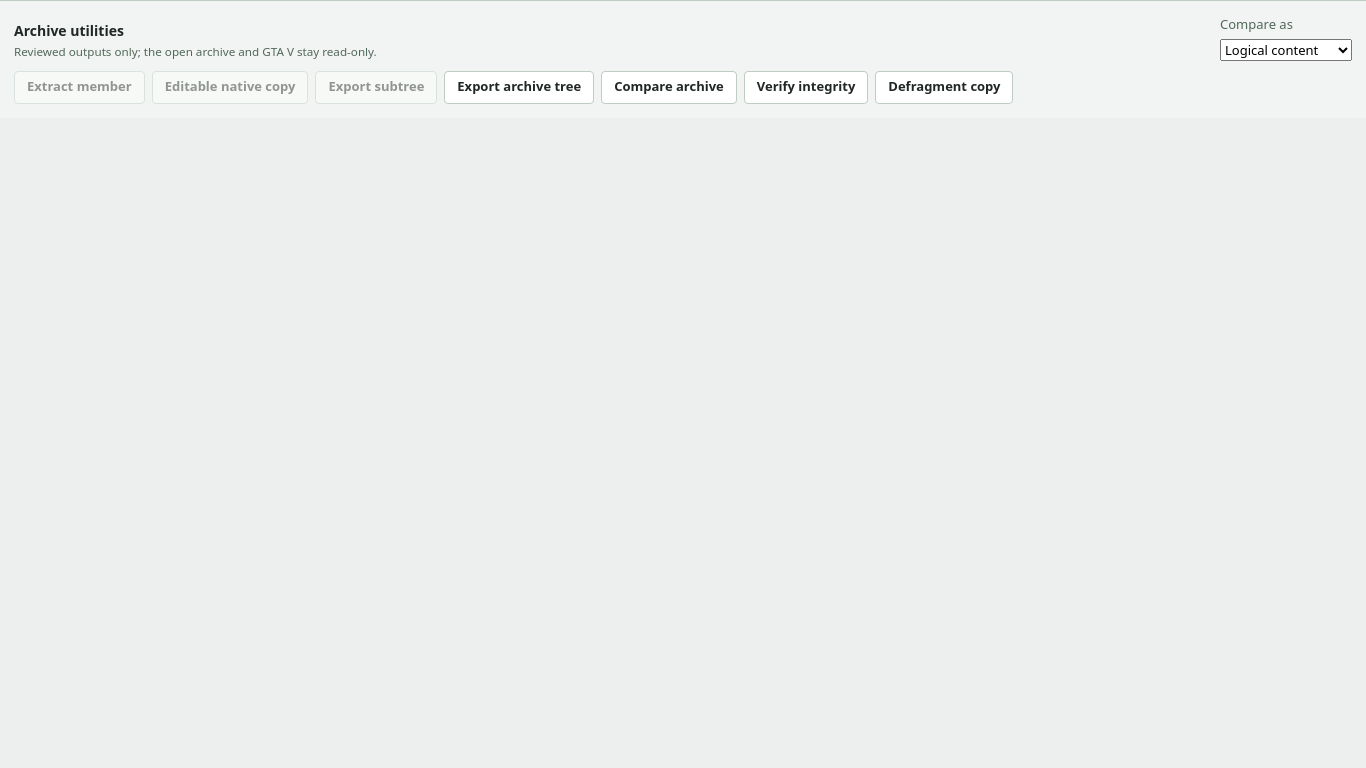
Test case: does not claim success for an incomplete apply receipt
The width and height of the screenshot is (1366, 768).
Click the button "Verify integrity" at x=806, y=87, box [744,70,868,104]
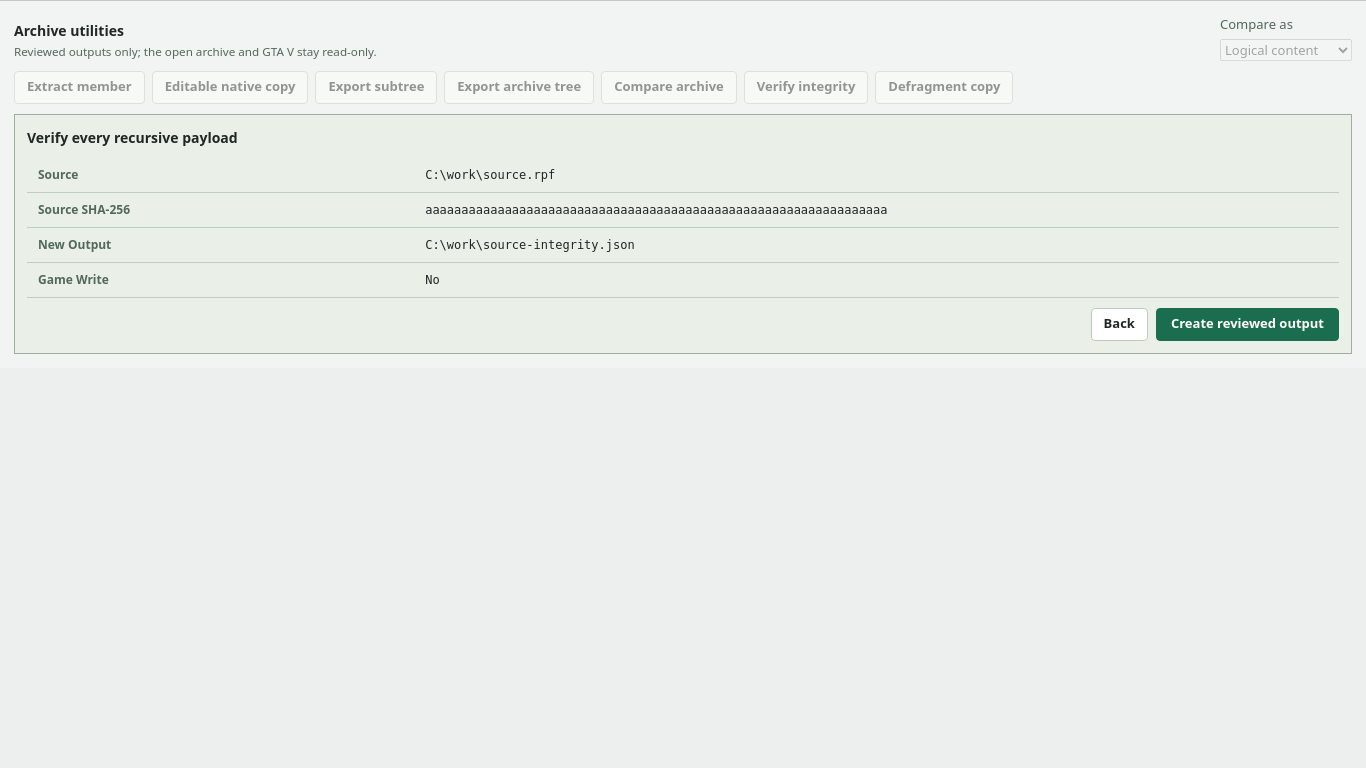
Click the button "Create reviewed output" at x=1247, y=324, box [1156,308,1339,340]
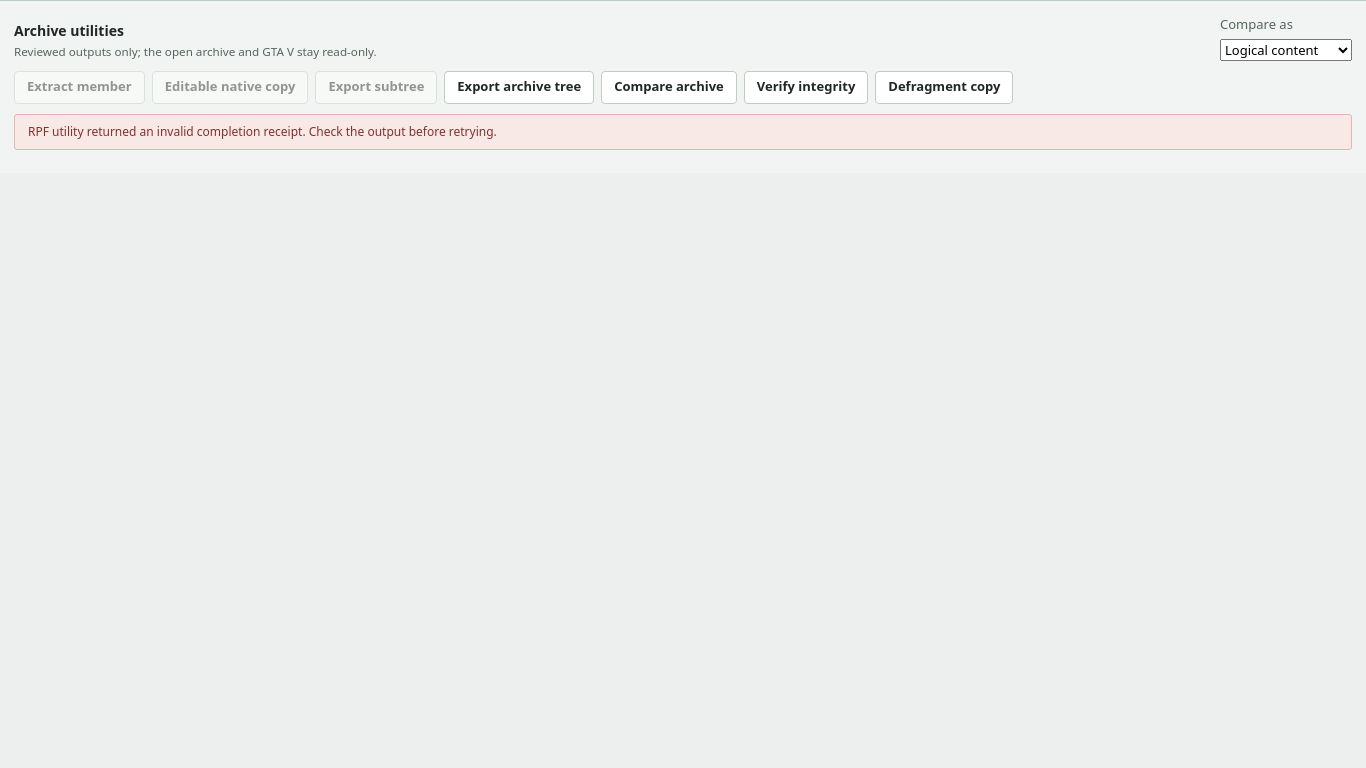
Result: the message shows "invalid completion receipt" at [28,122,497,140]
